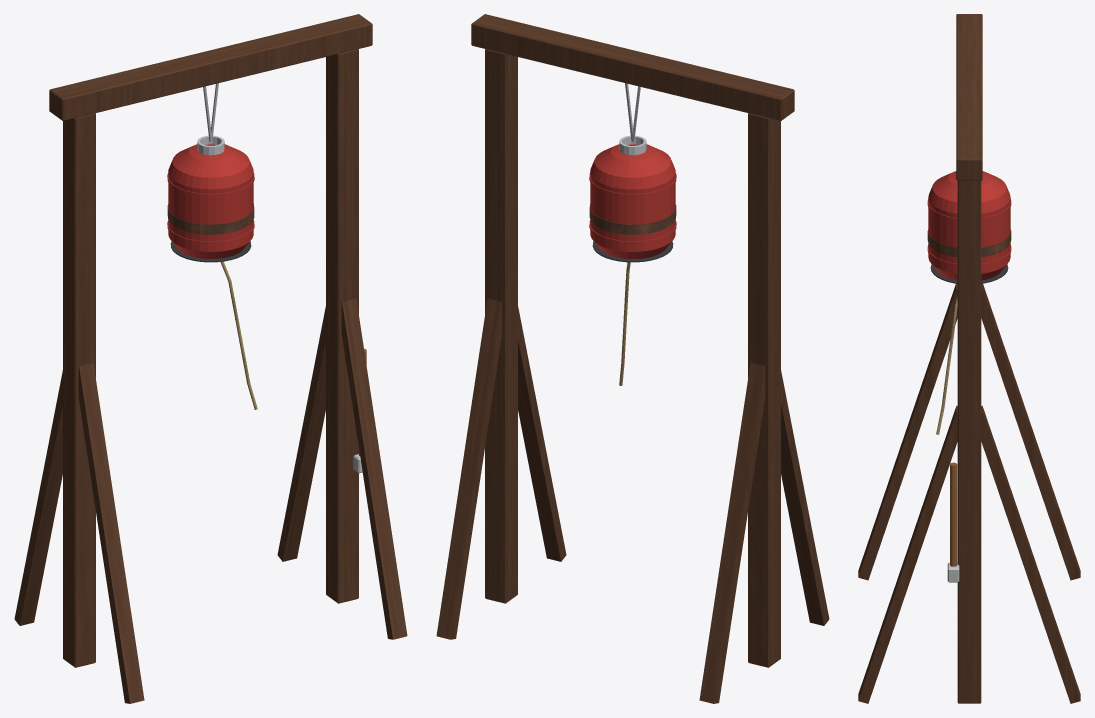
File: sino_alarme.glb
3 views of the same model, side by side, from view 1: azimuth 30°, elevation 25°; view 2: azimuth 150°, elevation 25°; view 3: azimuth 270°, elevation 25° (orthographic). The views are drawn at different scales.
Visible parts, largest first — view 1: sino_alarme_madeira_escura, sino_alarme_botijao, sino_alarme_ferrugem, sino_alarme_aco; view 2: sino_alarme_madeira_escura, sino_alarme_botijao, sino_alarme_ferrugem; view 3: sino_alarme_madeira_escura, sino_alarme_botijao, sino_alarme_madeira, sino_alarme_ferrugem, sino_alarme_corda.
Boxes of the visible parts, left/top/right/bottom form: sino_alarme_madeira_escura: left=14, top=14, right=407, bottom=703; sino_alarme_botijao: left=167, top=144, right=254, bottom=258; sino_alarme_ferrugem: left=167, top=204, right=254, bottom=234; sino_alarme_aco: left=197, top=135, right=362, bottom=473; sino_alarme_madeira_escura: left=436, top=14, right=829, bottom=703; sino_alarme_botijao: left=589, top=144, right=676, bottom=258; sino_alarme_ferrugem: left=589, top=204, right=676, bottom=234; sino_alarme_madeira_escura: left=858, top=14, right=1080, bottom=703; sino_alarme_botijao: left=927, top=171, right=1011, bottom=280; sino_alarme_madeira: left=950, top=462, right=957, bottom=566; sino_alarme_ferrugem: left=927, top=229, right=1011, bottom=257; sino_alarme_corda: left=936, top=296, right=957, bottom=434.
Bounding box in the file's own units: 1.3 × 2.3 × 0.8382.
Materials: 8 (4 with a texture image).
